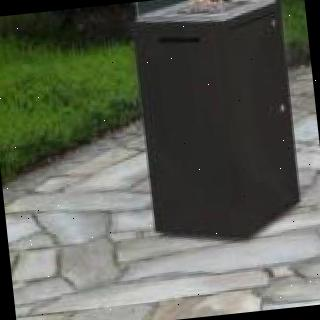fire: (187, 0, 231, 22)
